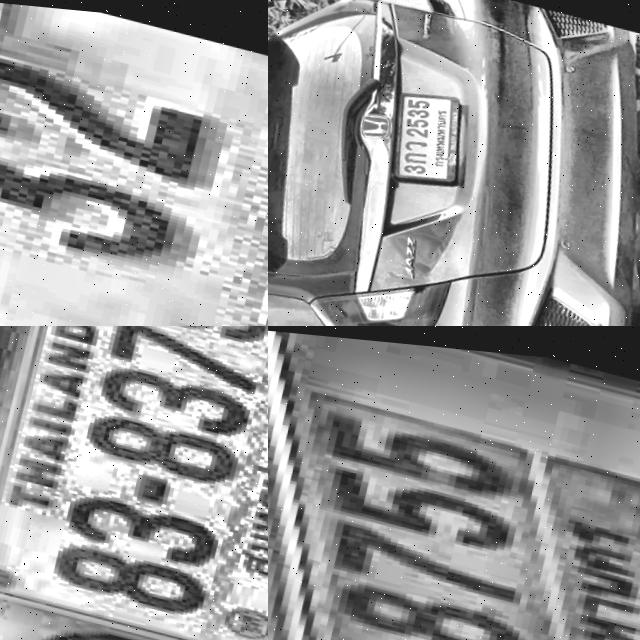license-plate: (268, 326, 640, 640), (0, 0, 268, 326), (0, 326, 268, 640), (383, 74, 483, 189)
